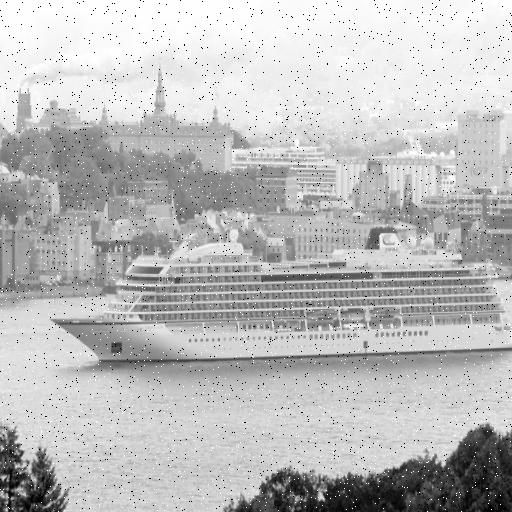cruises: (48, 218, 512, 366)
